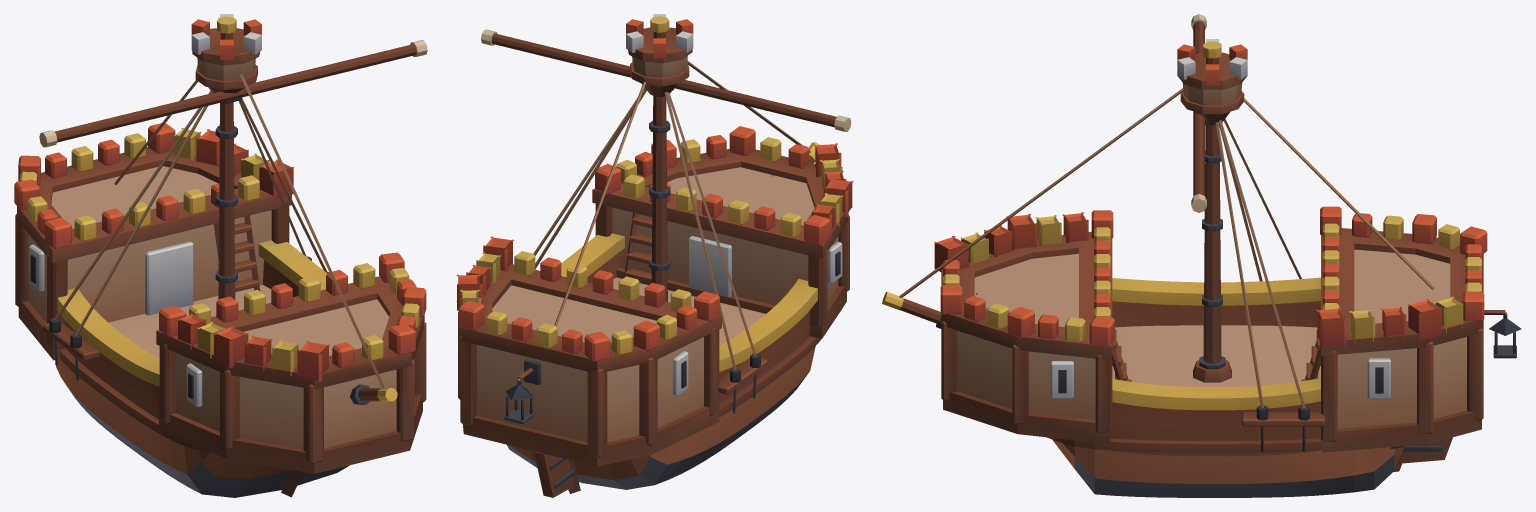
File: standard-up.glb
The picture shows the model from 3 angles, left to right: view 1: azimuth 30°, elevation 25°; view 2: azimuth 150°, elevation 25°; view 3: azimuth 270°, elevation 25°; orthographic projection. The views are drawn at different scales.
Parts seen in each view (by area): view 1: standard; view 2: standard; view 3: standard.
Boxes of the visible parts, x1,y1,x2,y2 form: standard: [14, 14, 427, 497]; standard: [456, 14, 853, 497]; standard: [882, 14, 1521, 497].
Size of the model in its own units: 5.24 by 5.65 by 7.67.
